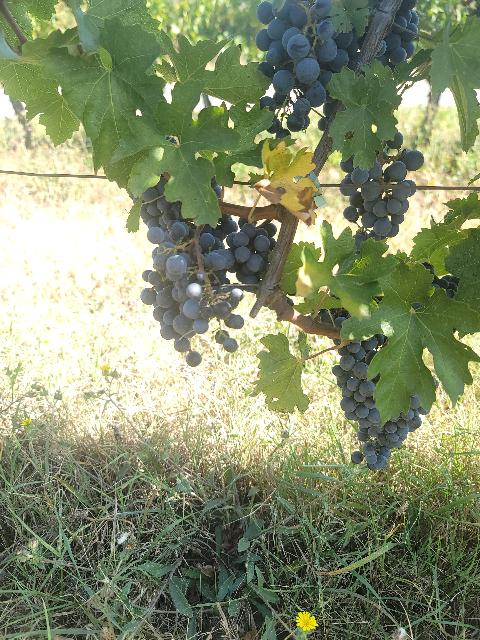grapes: (140, 179, 244, 366), (255, 0, 379, 111), (332, 334, 430, 470), (340, 132, 424, 248), (226, 222, 271, 285), (379, 0, 418, 66)
